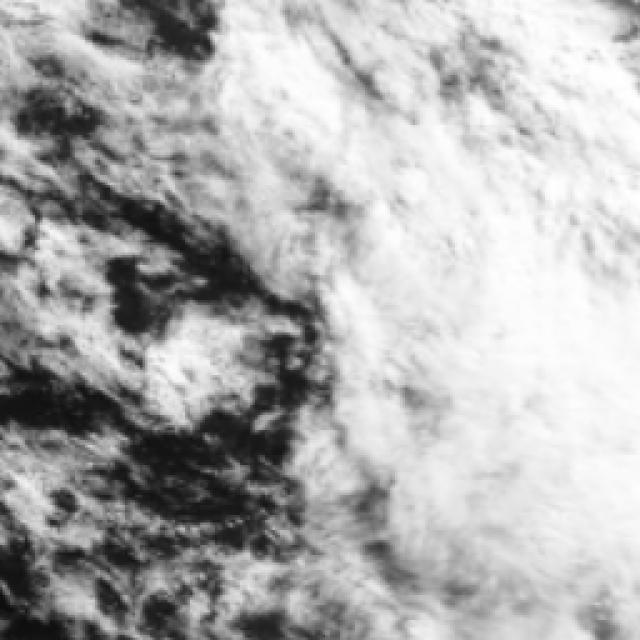CB: (346, 149, 541, 322), (451, 146, 640, 319), (462, 393, 640, 567), (460, 261, 640, 431), (480, 12, 620, 153), (388, 430, 545, 546), (242, 34, 366, 159)
